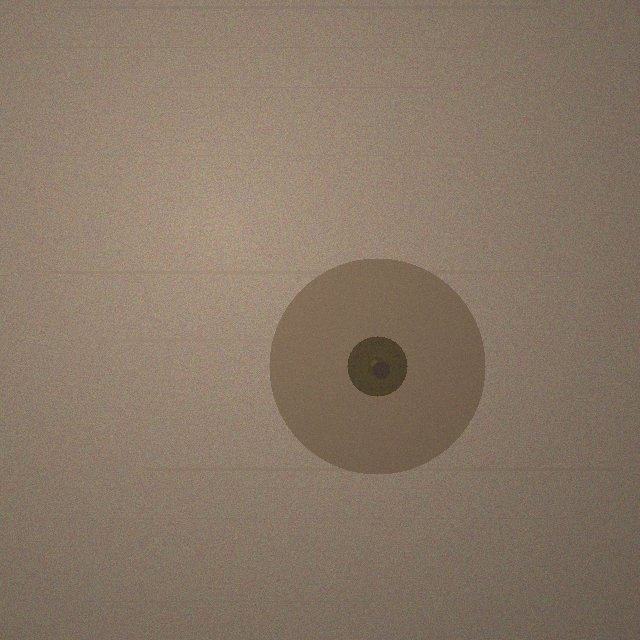cold_weld: (269, 258, 485, 474)
